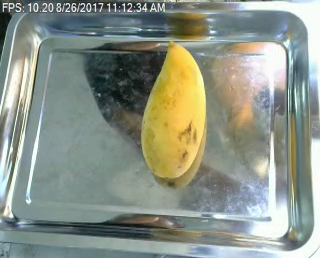Mango: (134, 36, 214, 180)
